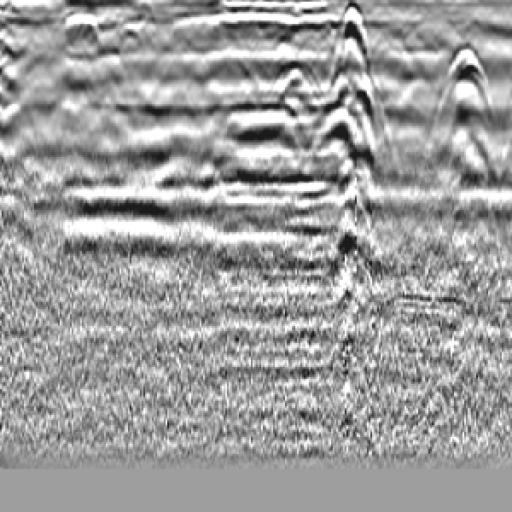metalic: (320, 12, 394, 323)
nonmetalic: (417, 40, 512, 190), (211, 55, 325, 164)
